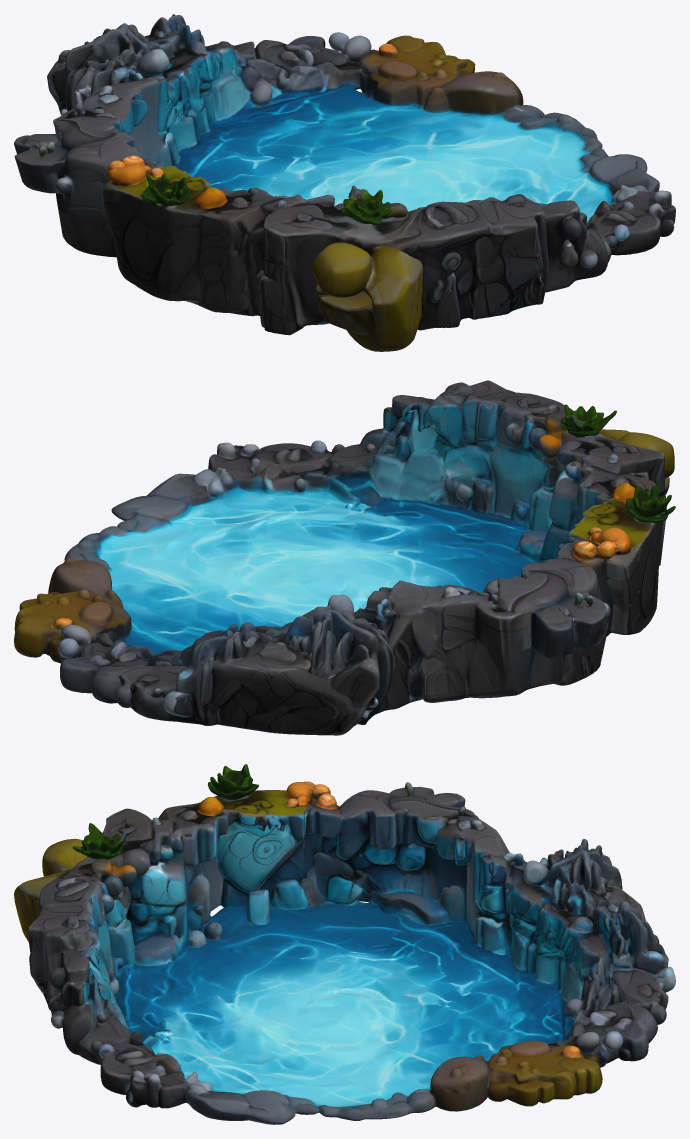
The model's file is nature-underground-lake.glb.
The picture shows the model from 3 angles, top to bottom: view 1: azimuth 30°, elevation 25°; view 2: azimuth 150°, elevation 25°; view 3: azimuth 270°, elevation 25°; orthographic projection. The views are drawn at different scales.
Visible parts, largest first — view 1: tripo_node_1b328d89-414e-4353-894f-ae7847f725a8; view 2: tripo_node_1b328d89-414e-4353-894f-ae7847f725a8; view 3: tripo_node_1b328d89-414e-4353-894f-ae7847f725a8.
Part boxes in pixels (x1=…): tripo_node_1b328d89-414e-4353-894f-ae7847f725a8: x1=14, y1=14, x2=675, y2=351; tripo_node_1b328d89-414e-4353-894f-ae7847f725a8: x1=14, y1=380, x2=675, y2=735; tripo_node_1b328d89-414e-4353-894f-ae7847f725a8: x1=14, y1=764, x2=675, y2=1124.
Size of the model in its own units: 0.8619 by 0.1999 by 0.9317.
1 material, 1 textured.
